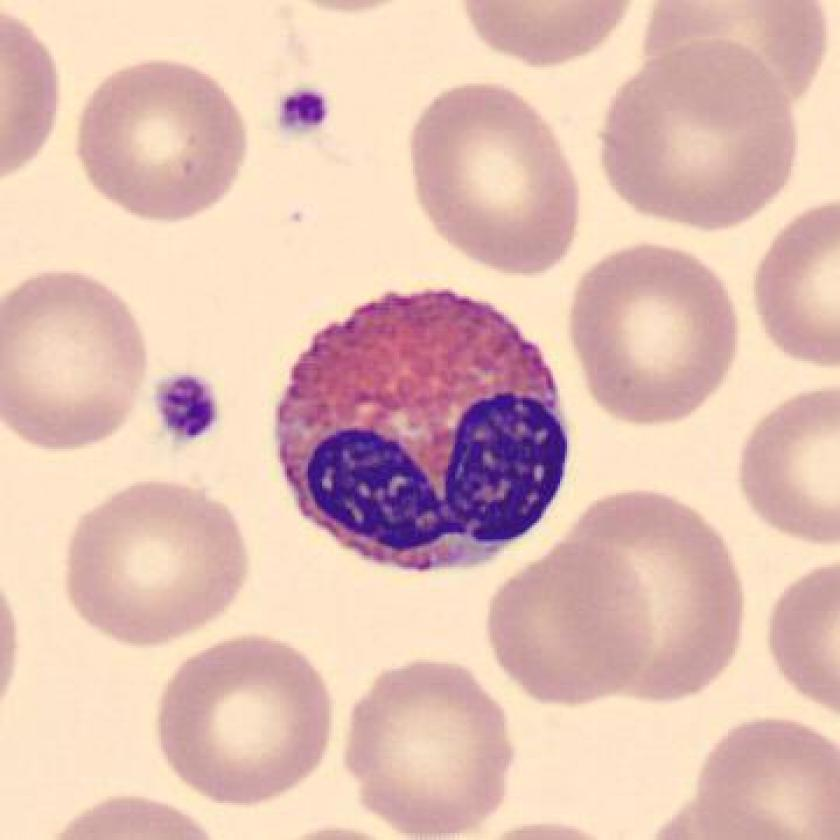eosinophil: (265, 270, 584, 594)
